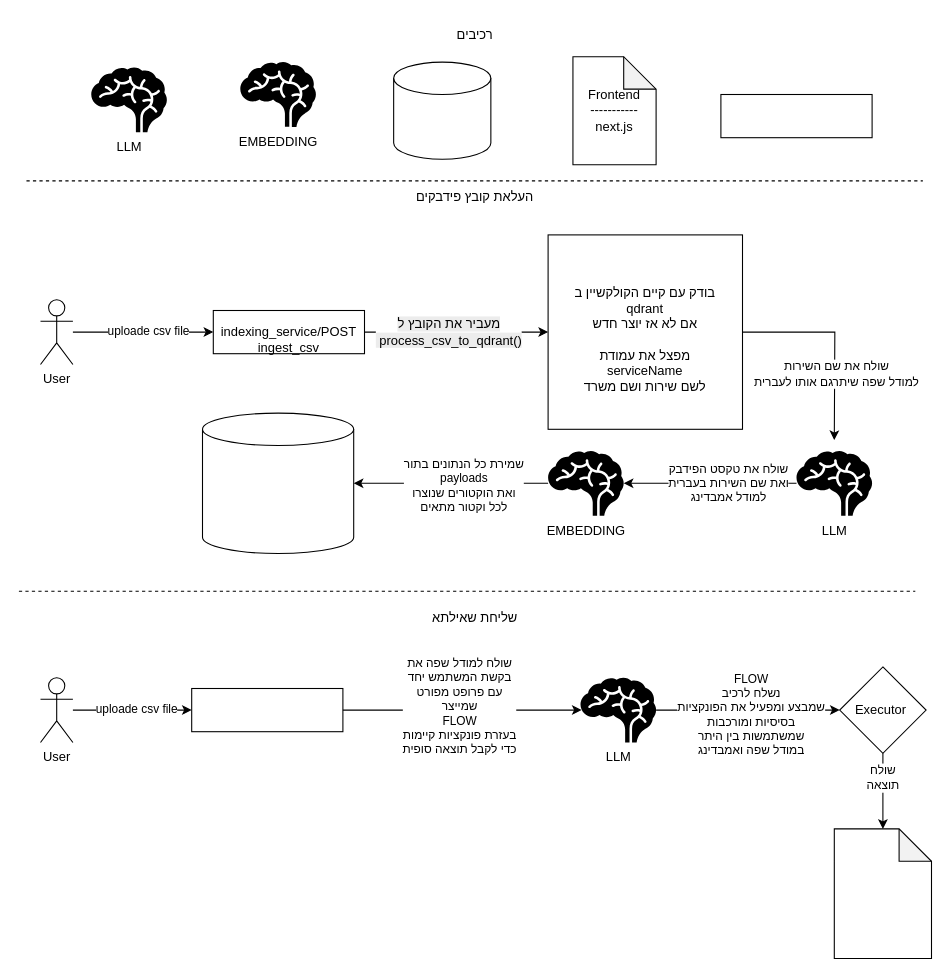
The diagram is 950 pixels wide and 977 high, and some of its shapes have lost their labels. The centre of each missing label's shape, as x and y in pixels:
"FastAPI" goes at [796,115].
"Frontend ---------- resukt" goes at [882,893].
"Qdrant feedback_embeddings 1.service_vector 2.text_vector" goes at [277,483].
"Qdrant Vector DB" goes at [442,110].
"query_service/POST query" goes at [267,709].
